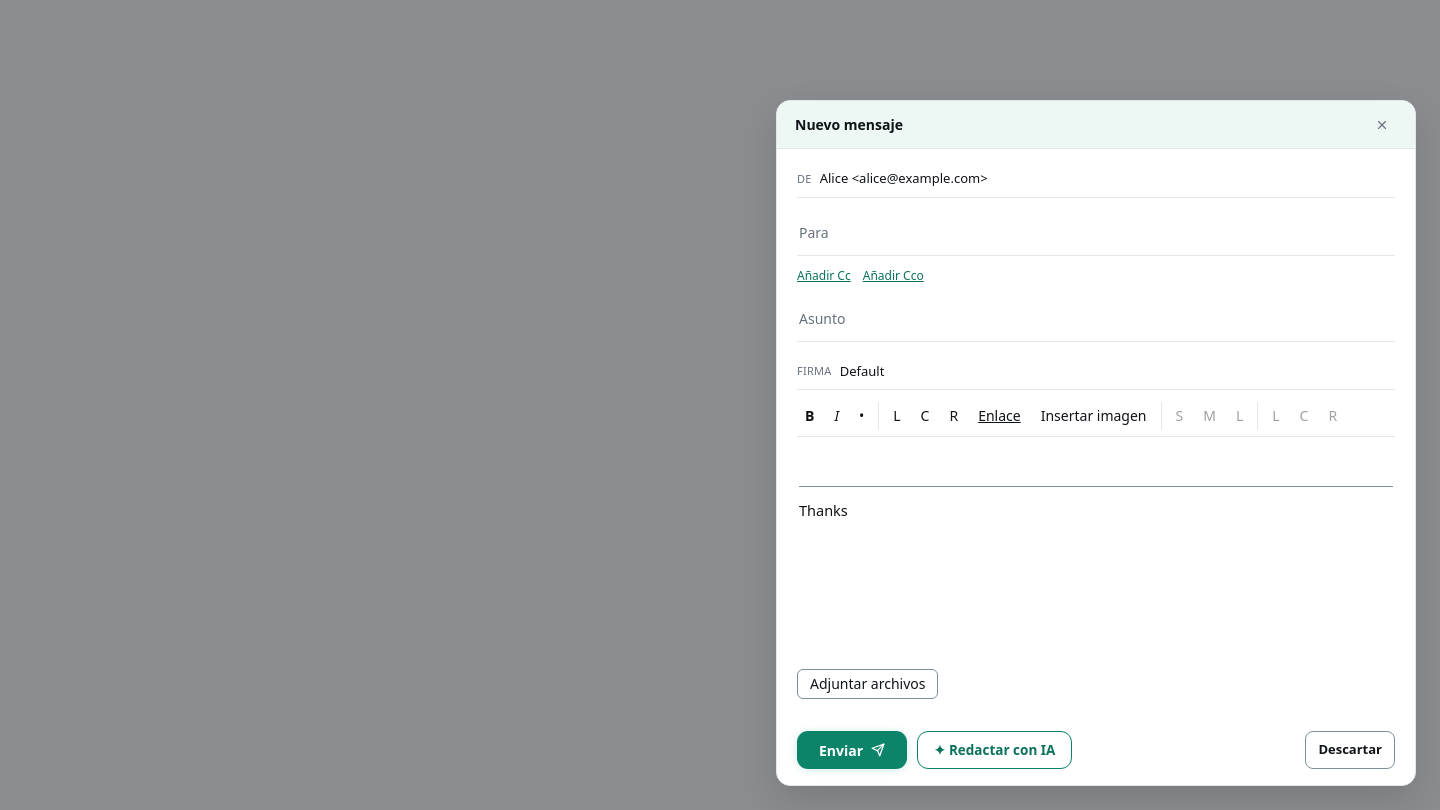
Test: Composer › default signature auto-apply and switching › replaces (not stacks) the applied signature after typing, then switching
Clear the field named "Mensaje": (1096, 504) x1=799 y1=486 x2=1393 y2=522
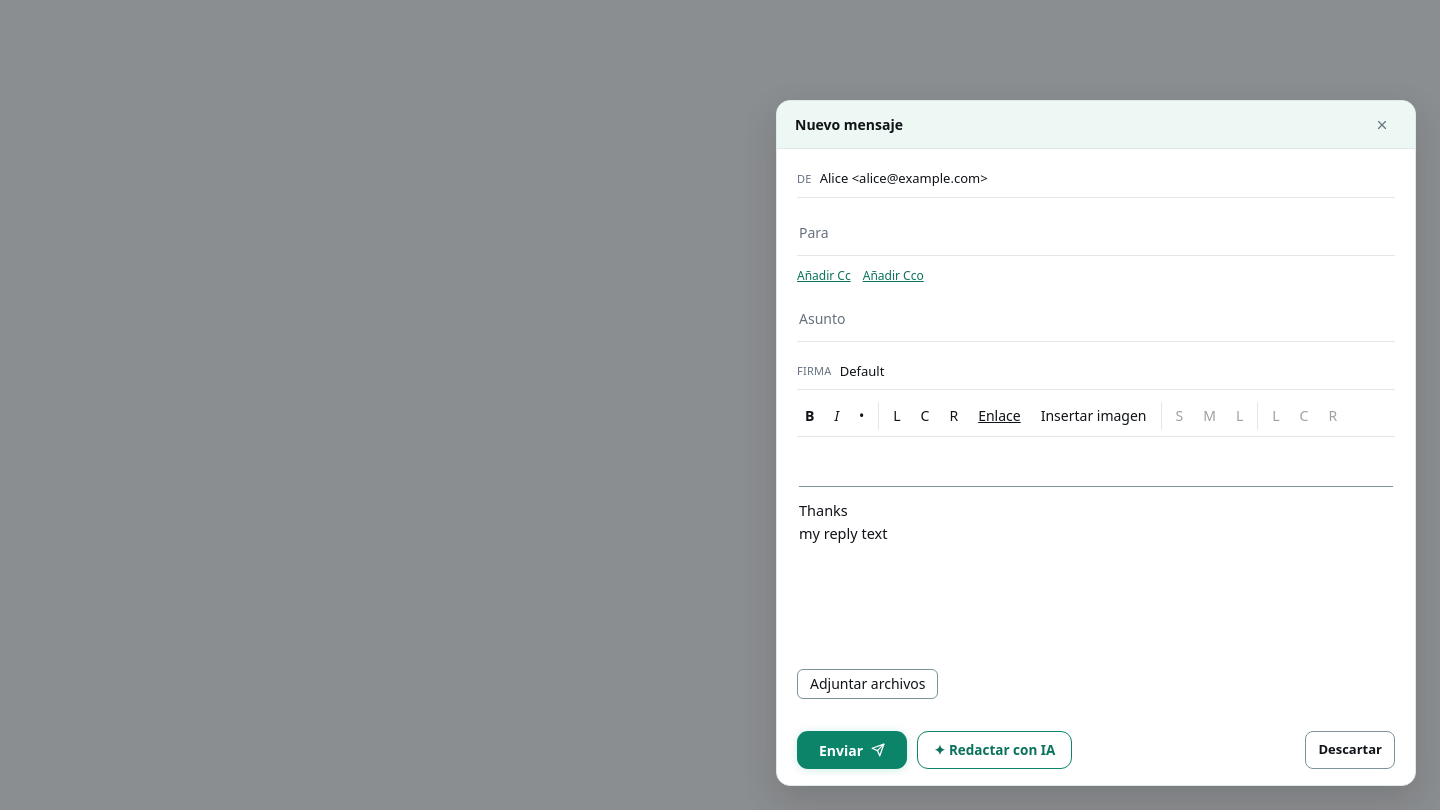
Select "Alt" in the dropdown labelled "Firma": (1117, 371) x1=840 y1=358 x2=1395 y2=385
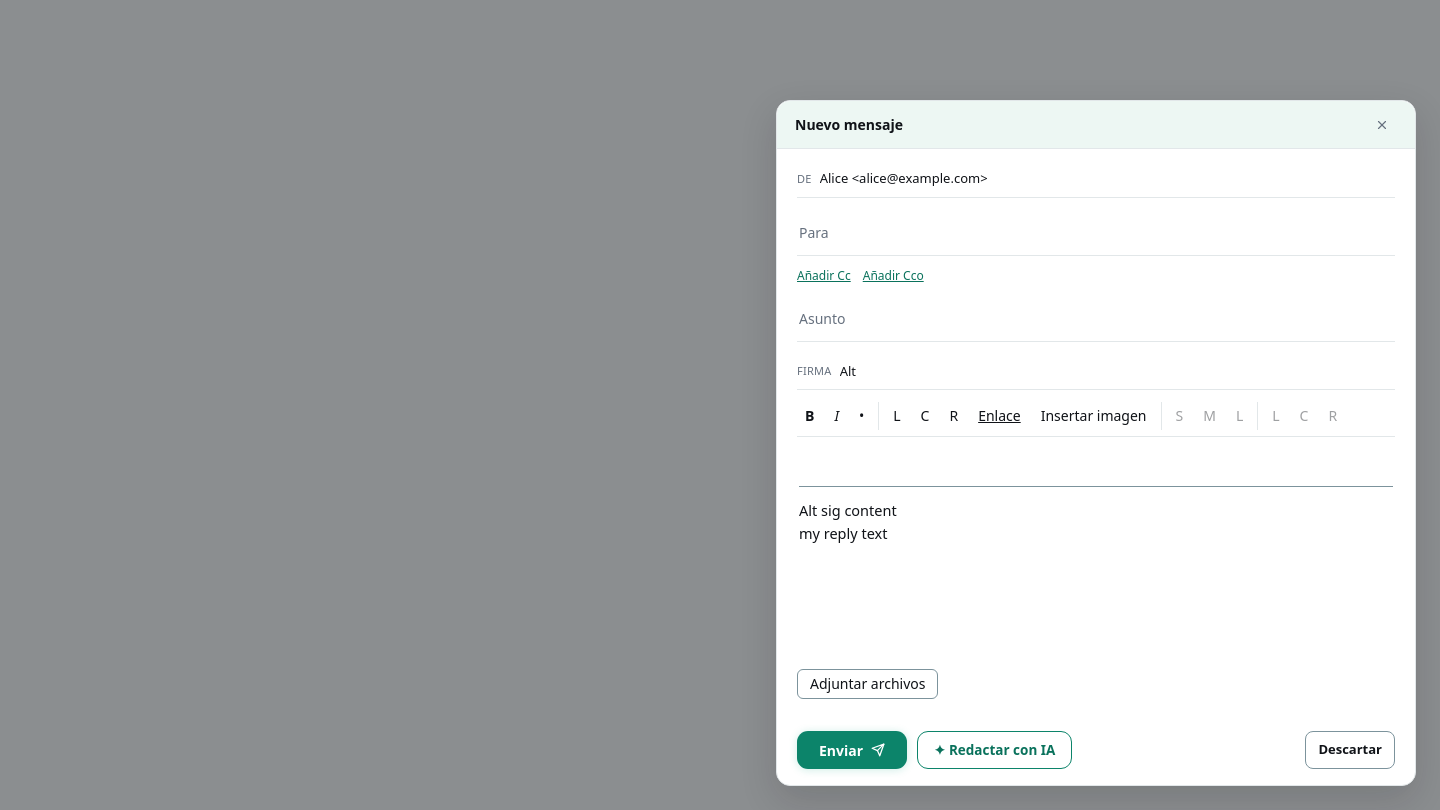
Expected: the field labelled "Mensaje" no longer shows "Thanks"
